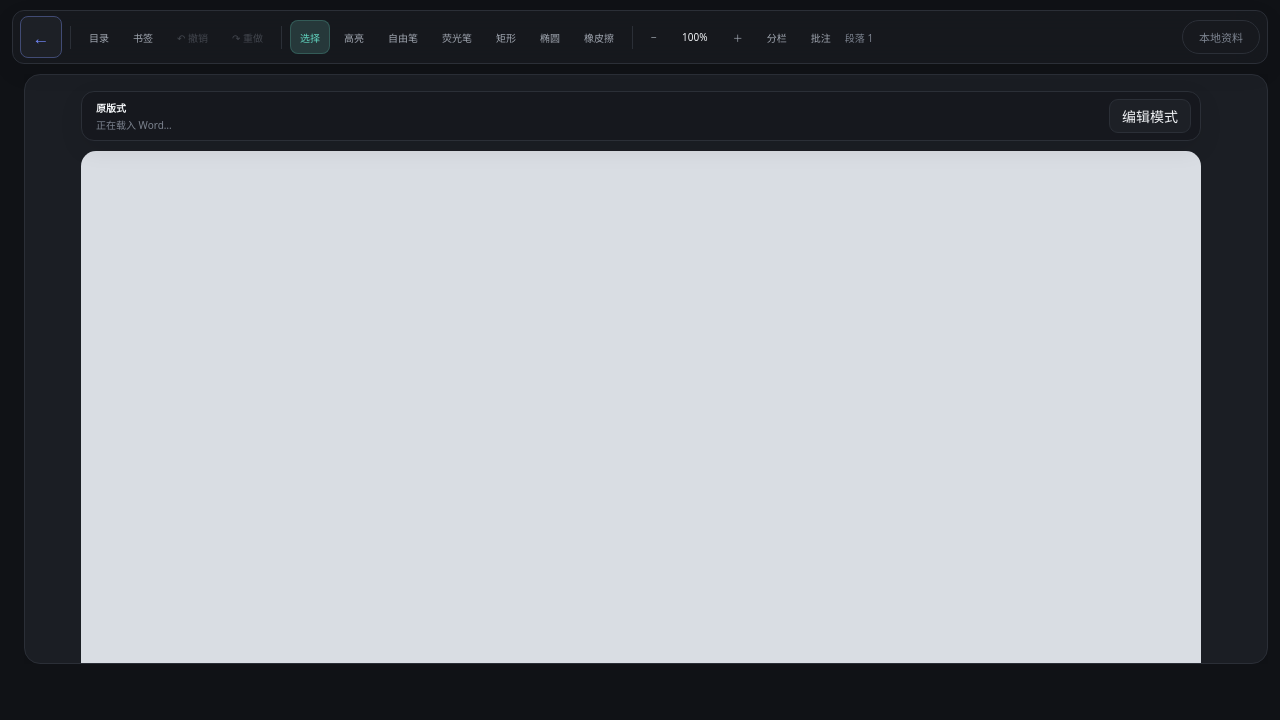
document workspace readers › shows Word in original layout by default and opens a continuous Office-style editing mode
The image size is (1280, 720).
Click the button with aria-label "进入编辑模式" at (1150, 116), box [1109,99,1191,133]
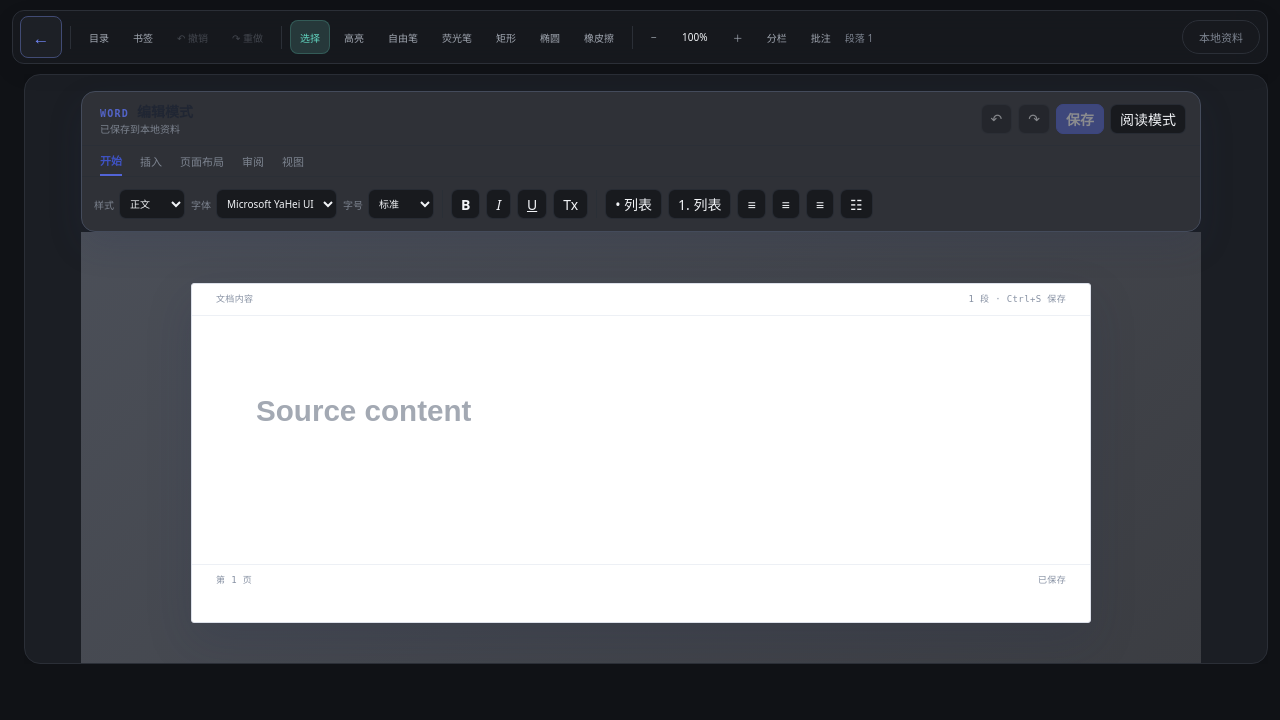
Expected: the element named "Word 编辑工具" is shown, [94,189,872,219]
Expected: the field named "Word 文档编辑器" is shown, [256,394,471,426]
Expected: the button with aria-label "保存文档" is shown, [1056,104,1104,134]
